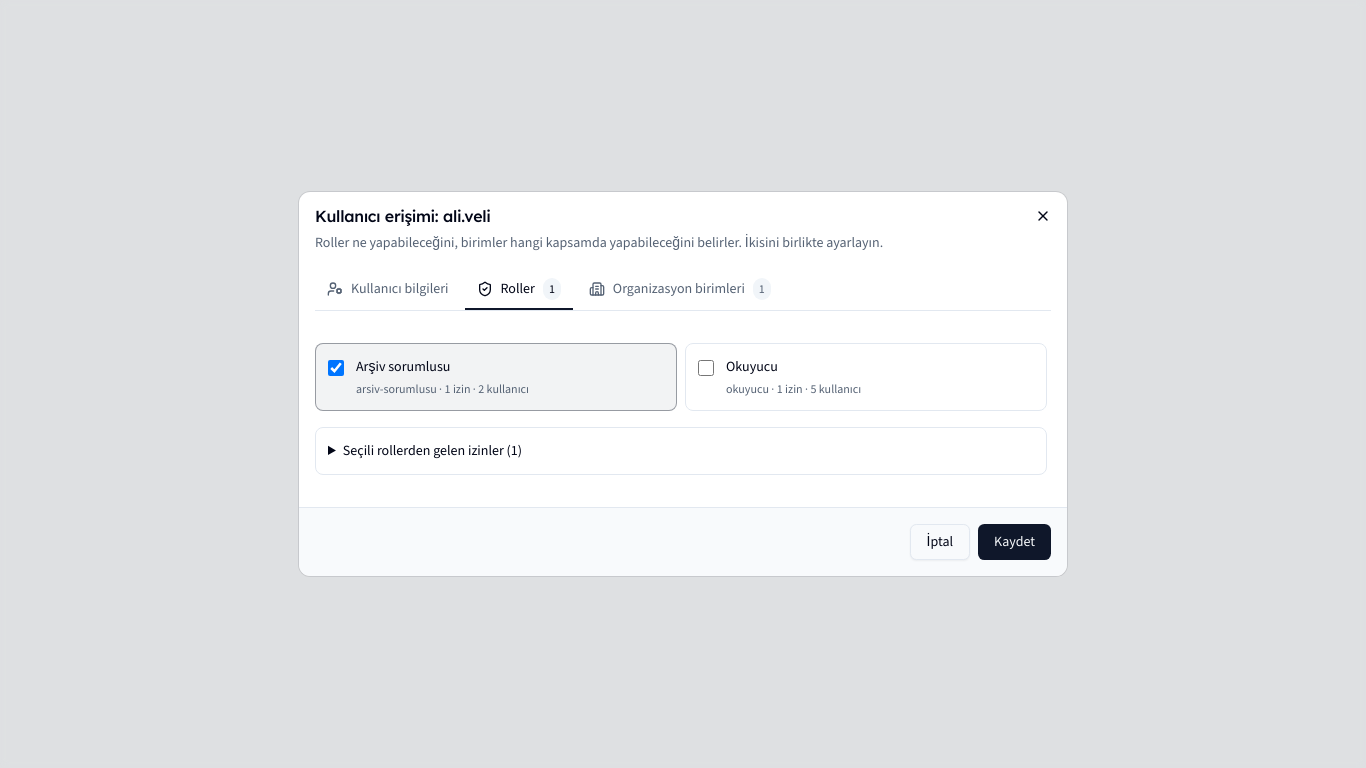
Test case: shows the user's roles and unit memberships together
Expected: the checkbox labelled "Arşiv sorumlusu arsiv-sorumlusu · 1 izin · 2 kullanıcı" is checked, [328,360,344,376]
Expected: the checkbox labelled "Okuyucu okuyucu · 1 izin · 5 kullanıcı" is not checked, [698,360,714,376]
Click the button "Organizasyon birimleri 1" at (680, 290), box [577,270,783,310]
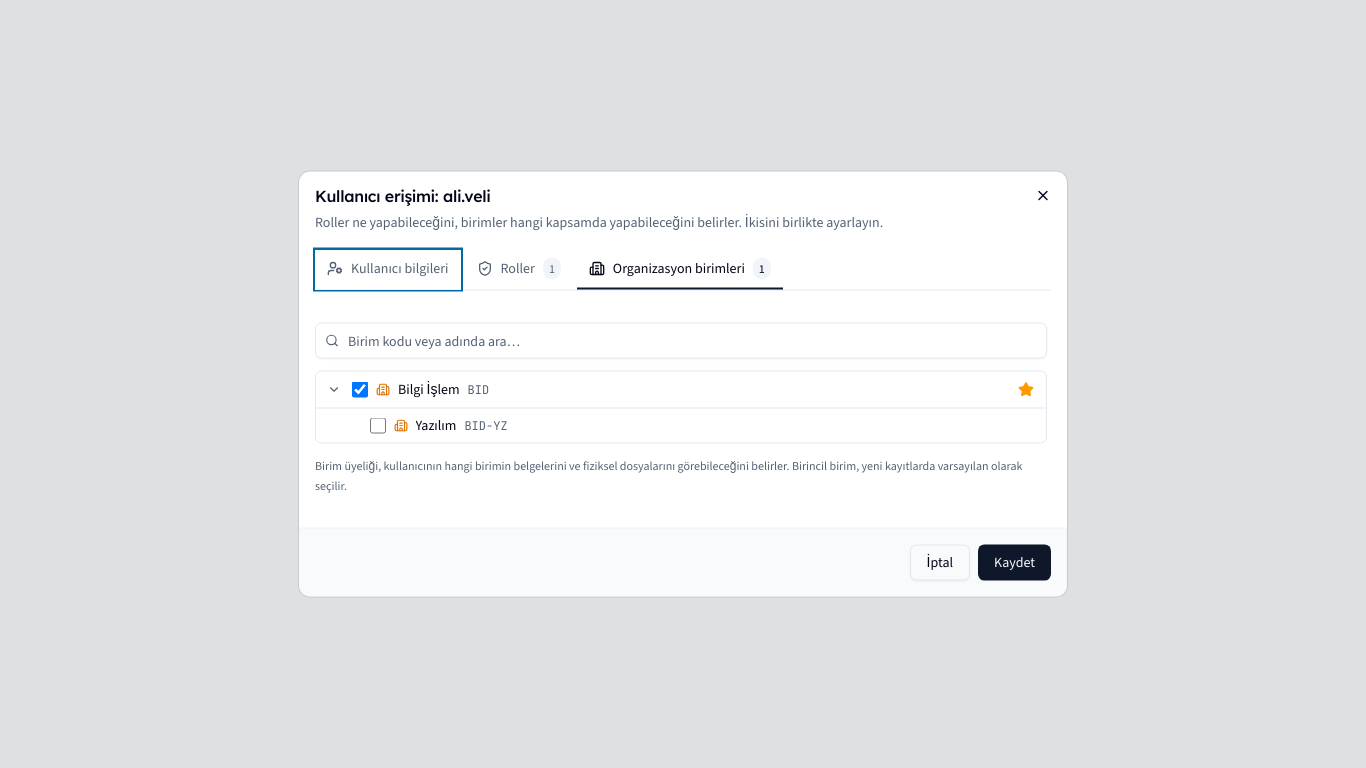
Expected: the checkbox labelled "Bilgi İşlem" is checked, [352,382,368,398]
Expected: the checkbox labelled "Yazılım" is not checked, [370,418,386,434]
